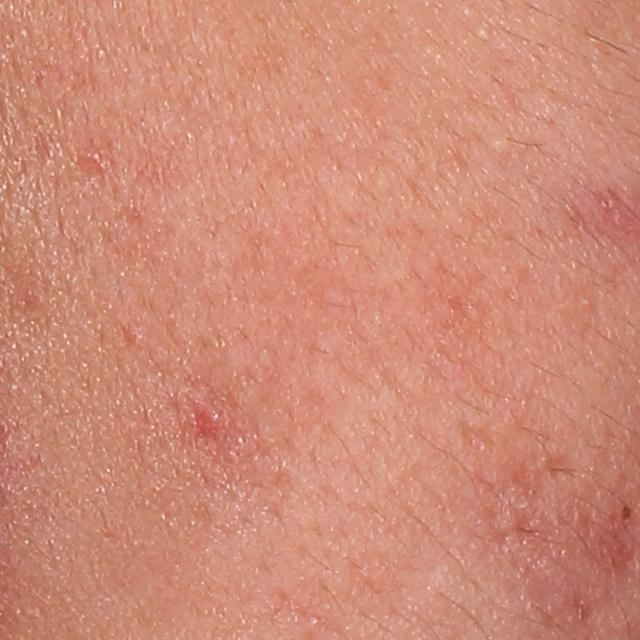atrophic_scar: (537, 449, 584, 486)
